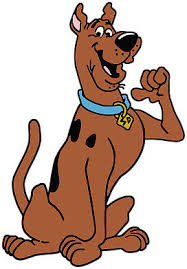scooby: (3, 2, 186, 267)
